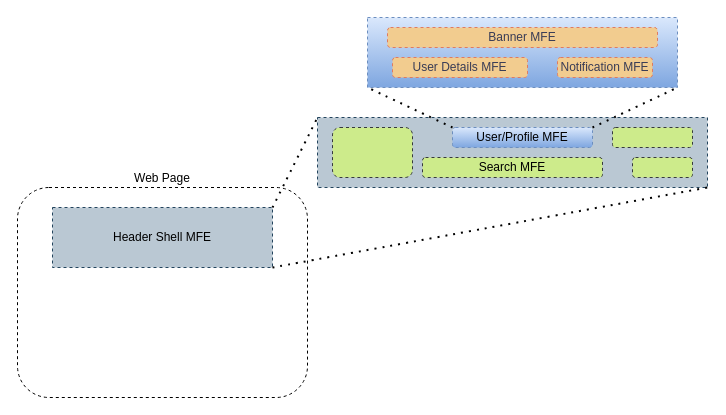
The diagram is 726 pixels wide and 415 high, and some of its shapes have lost their labels. Each missing label, with the centre of its shape:
"Account MFE" goes at point 652,137.
"Cart MFE" goes at point 662,167.
"Logo" goes at point 372,152.
